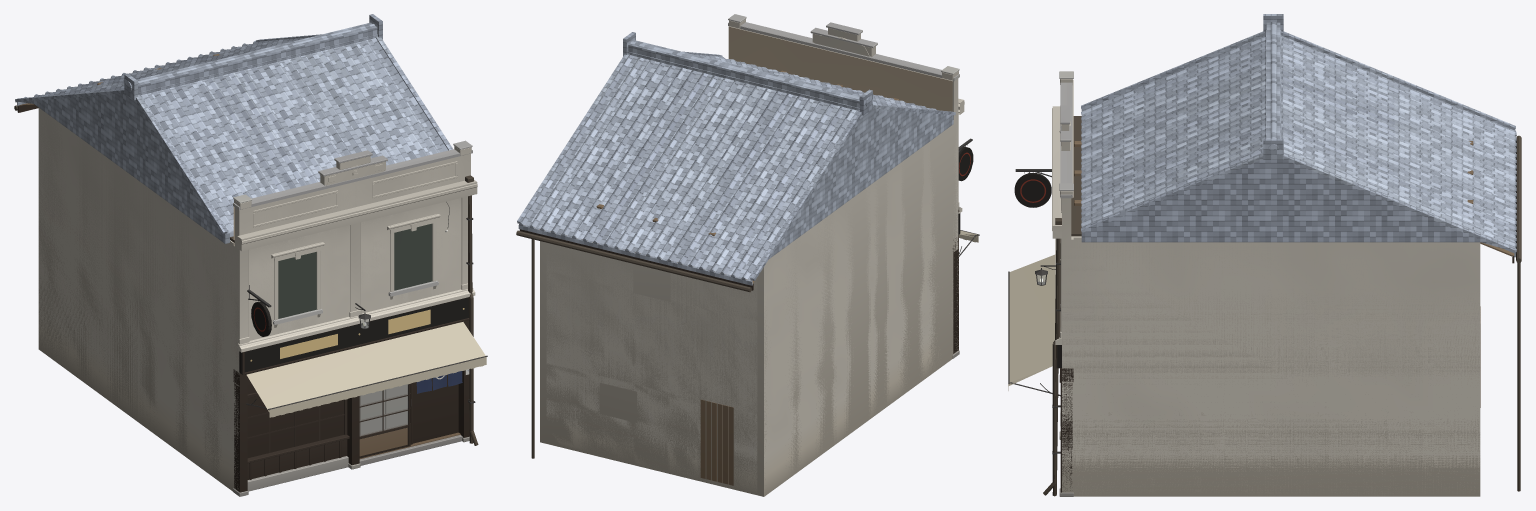
Rendered from building-a.glb.
3 views of the same model, side by side, from view 1: azimuth 30°, elevation 25°; view 2: azimuth 150°, elevation 25°; view 3: azimuth 270°, elevation 25° (orthographic). The views are drawn at different scales.
Parts seen in each view (by area): view 1: BldgA_LOD1_Exterior, BldgA_LOD0_sideL, BldgA_LOD2_Exterior, BldgA_LOD0_walls, BldgA_LOD0_shopfront, BldgA_LOD0_roof, BldgA_LOD0_trim, BldgA_LOD0_signs, BldgA_LOD0_windows, BldgA_LOD0_services, BldgA_LOD0_awning; view 2: BldgA_LOD1_Exterior, BldgA_LOD2_Exterior, BldgA_LOD0_rear, BldgA_LOD0_sideL, BldgA_LOD0_roof, BldgA_LOD0_trim, BldgA_LOD0_sideR, BldgA_LOD0_shopfront; view 3: BldgA_LOD0_sideR, BldgA_LOD1_Exterior, BldgA_LOD2_Exterior, BldgA_LOD0_roof, BldgA_LOD0_trim, BldgA_LOD0_services, BldgA_LOD0_shopfront.
Part boxes in pixels (left/top/right/bottom): BldgA_LOD1_Exterior: left=34, top=14, right=486, bottom=492; BldgA_LOD0_sideL: left=38, top=108, right=239, bottom=491; BldgA_LOD2_Exterior: left=21, top=39, right=477, bottom=457; BldgA_LOD0_walls: left=234, top=153, right=470, bottom=340; BldgA_LOD0_shopfront: left=233, top=321, right=469, bottom=496; BldgA_LOD0_roof: left=14, top=15, right=452, bottom=242; BldgA_LOD0_trim: left=233, top=140, right=477, bottom=352; BldgA_LOD0_signs: left=242, top=285, right=469, bottom=374; BldgA_LOD0_windows: left=271, top=214, right=440, bottom=327; BldgA_LOD0_services: left=355, top=175, right=478, bottom=445; BldgA_LOD0_awning: left=245, top=321, right=487, bottom=417; BldgA_LOD1_Exterior: left=522, top=22, right=978, bottom=496; BldgA_LOD2_Exterior: left=525, top=56, right=974, bottom=496; BldgA_LOD0_rear: left=546, top=243, right=757, bottom=494; BldgA_LOD0_sideL: left=757, top=116, right=958, bottom=496; BldgA_LOD0_roof: left=516, top=32, right=955, bottom=458; BldgA_LOD0_trim: left=728, top=14, right=964, bottom=213; BldgA_LOD0_sideR: left=540, top=241, right=546, bottom=443; BldgA_LOD0_shopfront: left=952, top=249, right=959, bottom=358; BldgA_LOD0_sideR: left=1062, top=236, right=1480, bottom=496; BldgA_LOD1_Exterior: left=1008, top=14, right=1514, bottom=496; BldgA_LOD2_Exterior: left=1008, top=35, right=1515, bottom=385; BldgA_LOD0_roof: left=1071, top=14, right=1521, bottom=491; BldgA_LOD0_trim: left=1052, top=71, right=1073, bottom=344; BldgA_LOD0_services: left=1035, top=218, right=1061, bottom=495; BldgA_LOD0_shopfront: left=1059, top=368, right=1073, bottom=496.
Size of what is drawn, in the model's own units: 6.48 by 8.56 by 11.05.
Materials: 45 (4 with a texture image).
